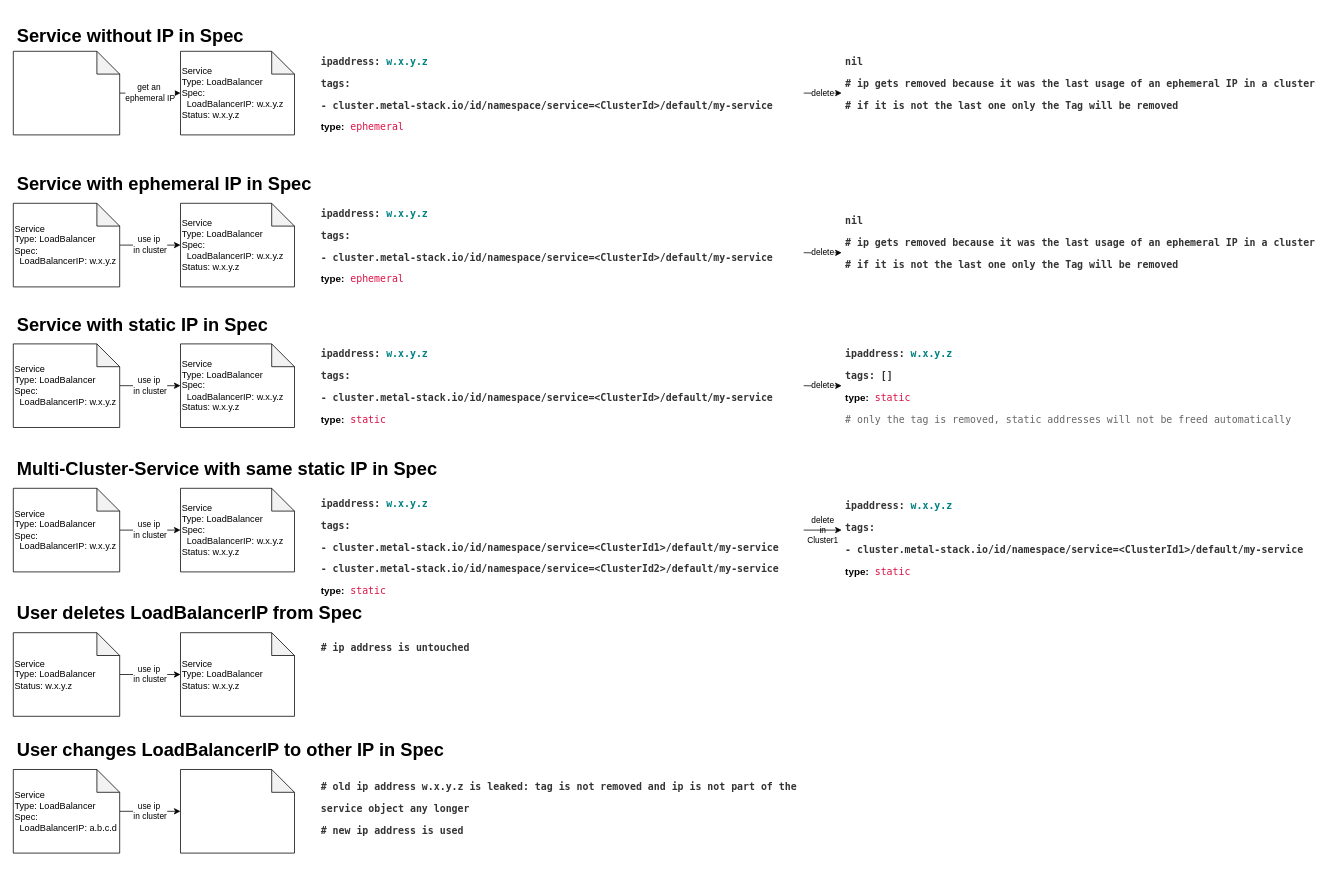
The diagram is 1341 pixels wide and 881 high, and some of its shapes have lost their labels. The centre of each missing label's shape, as x and y in pixels:
Service Type: LoadBalancer: (x=66, y=93)
Service Type: LoadBalancer Spec: LoadBalancerIP: a.b.c.d Status: a.b.c.d: (x=237, y=811)
